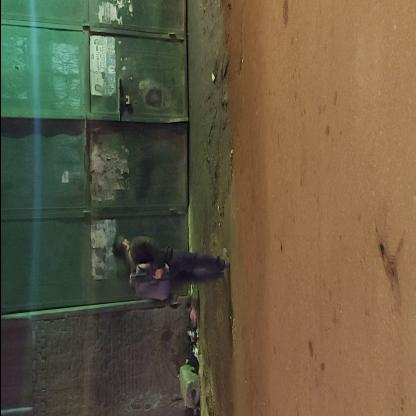long weapon: (122, 254, 170, 290)
